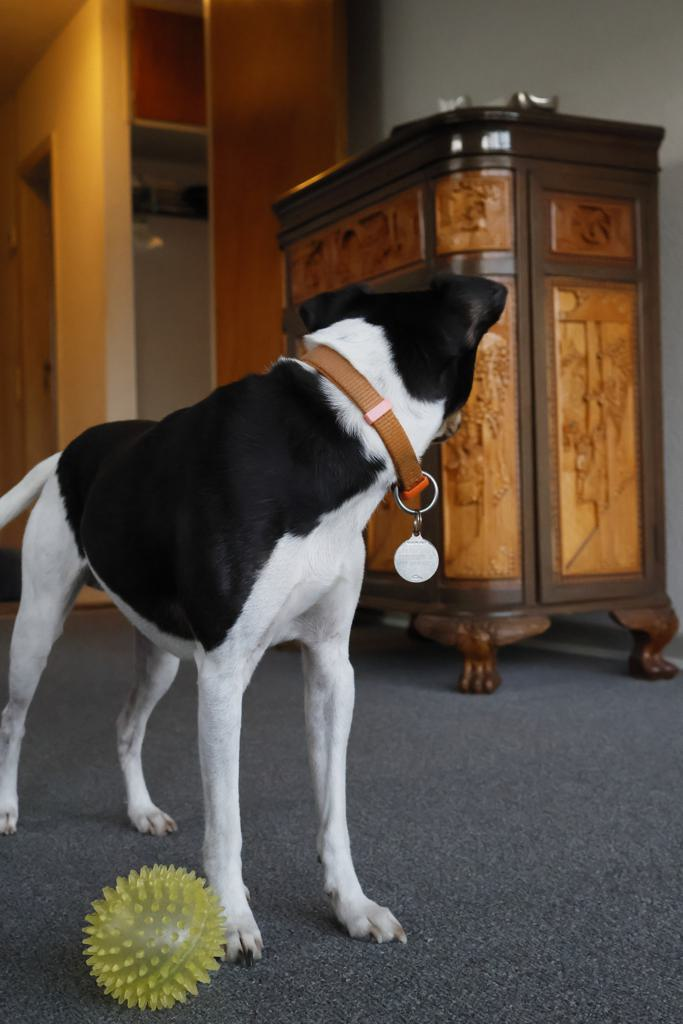Dog: (0, 263, 514, 980)
